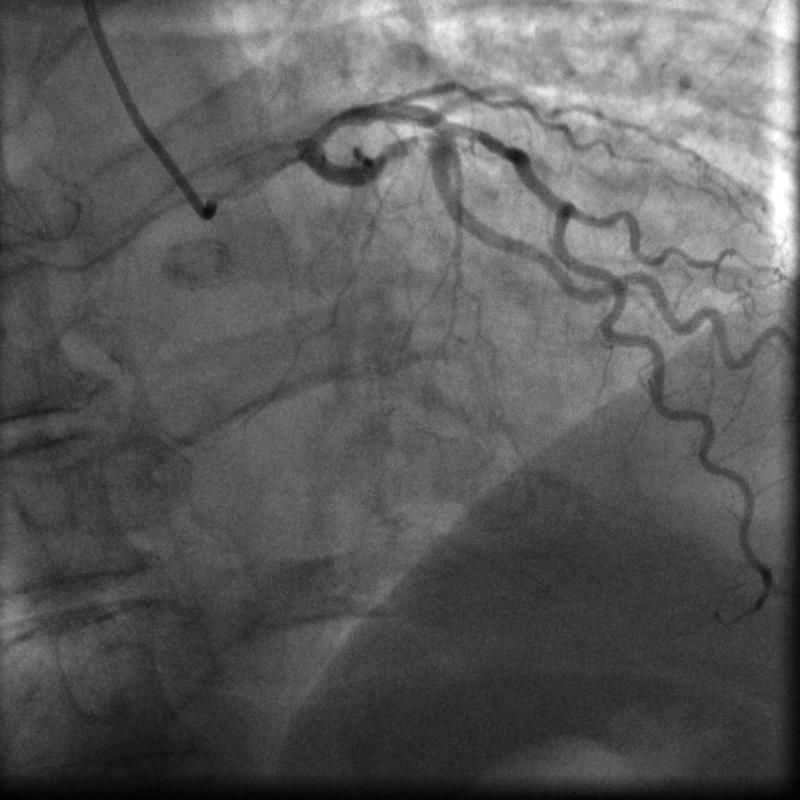Stenosis: (389, 131, 450, 158)
